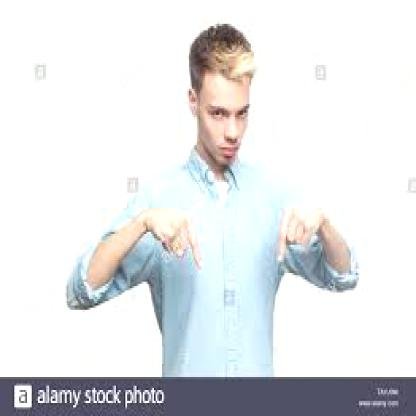Down: (141, 199, 207, 283), (273, 193, 329, 274)
